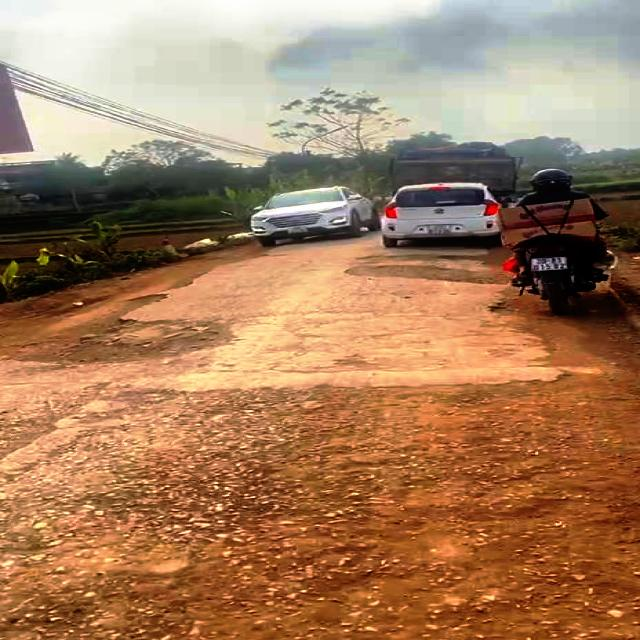pothole: (0, 290, 240, 366), (341, 251, 502, 286)
